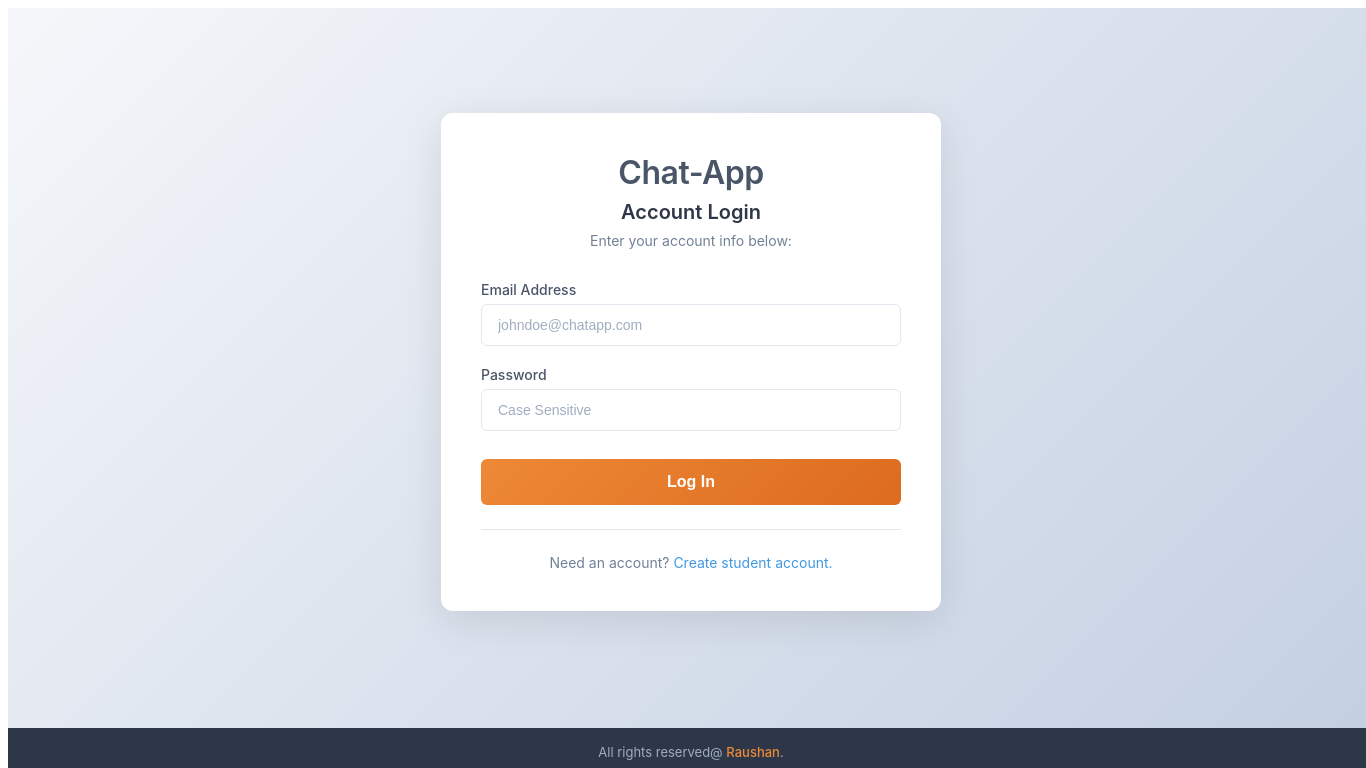
Test: session and routing › blocks duplicate login requests and keeps credentials after failure
Expected: the heading "Account Login" is shown, [621,200,761,224]
Type "alice@example.com" into the field labelled "Email Address". click: (691, 325)
box: [481,304,901,346]
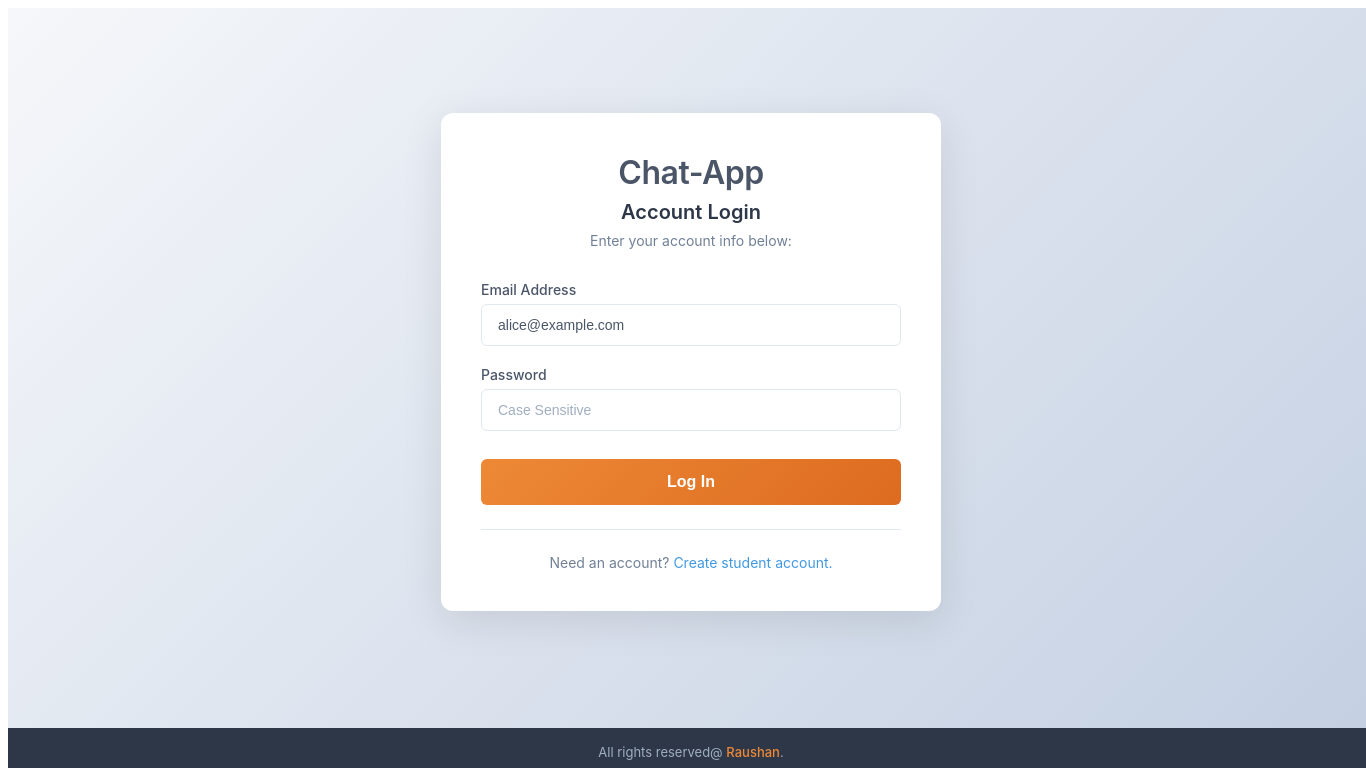
Type "secret" into the password field labelled "Password". click: (691, 410)
box: [481,389,901,431]
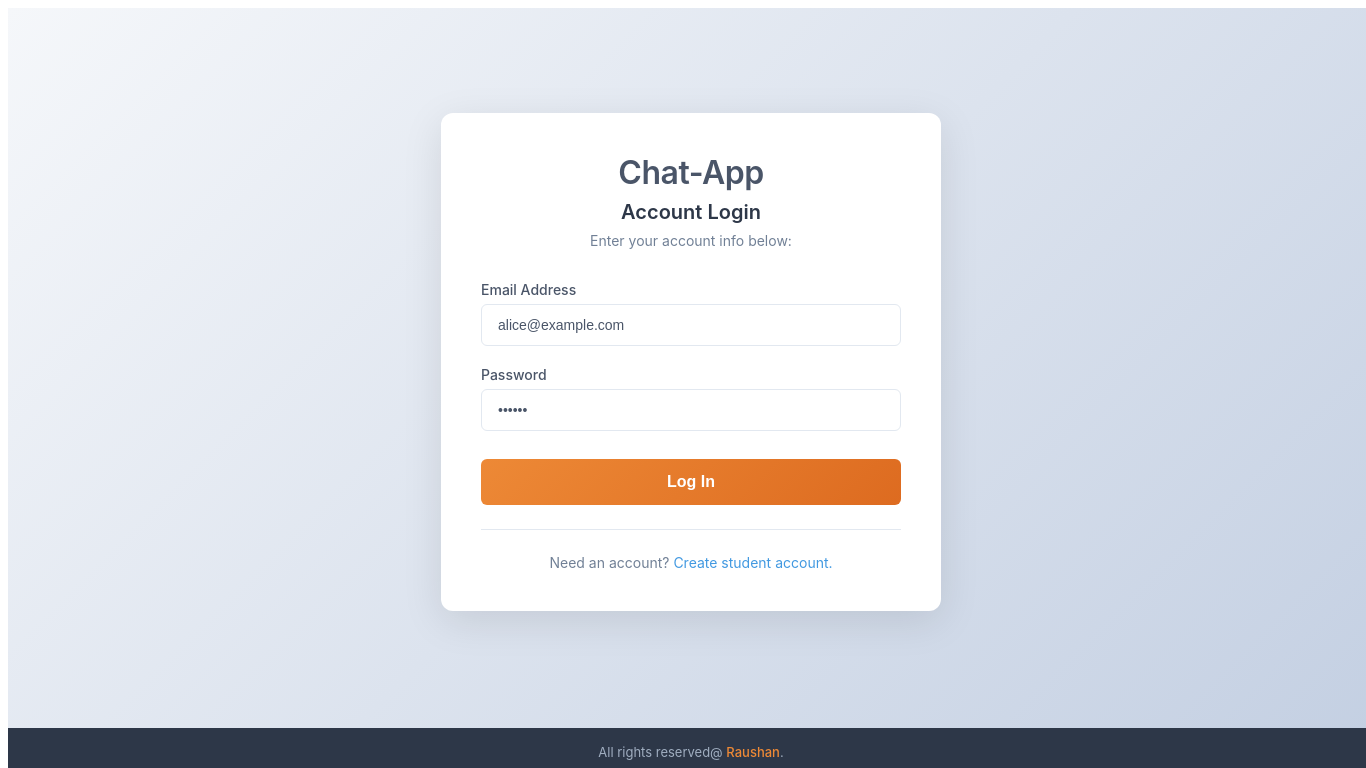
Submit the form labelled "Email Address", box [481,281,901,505]
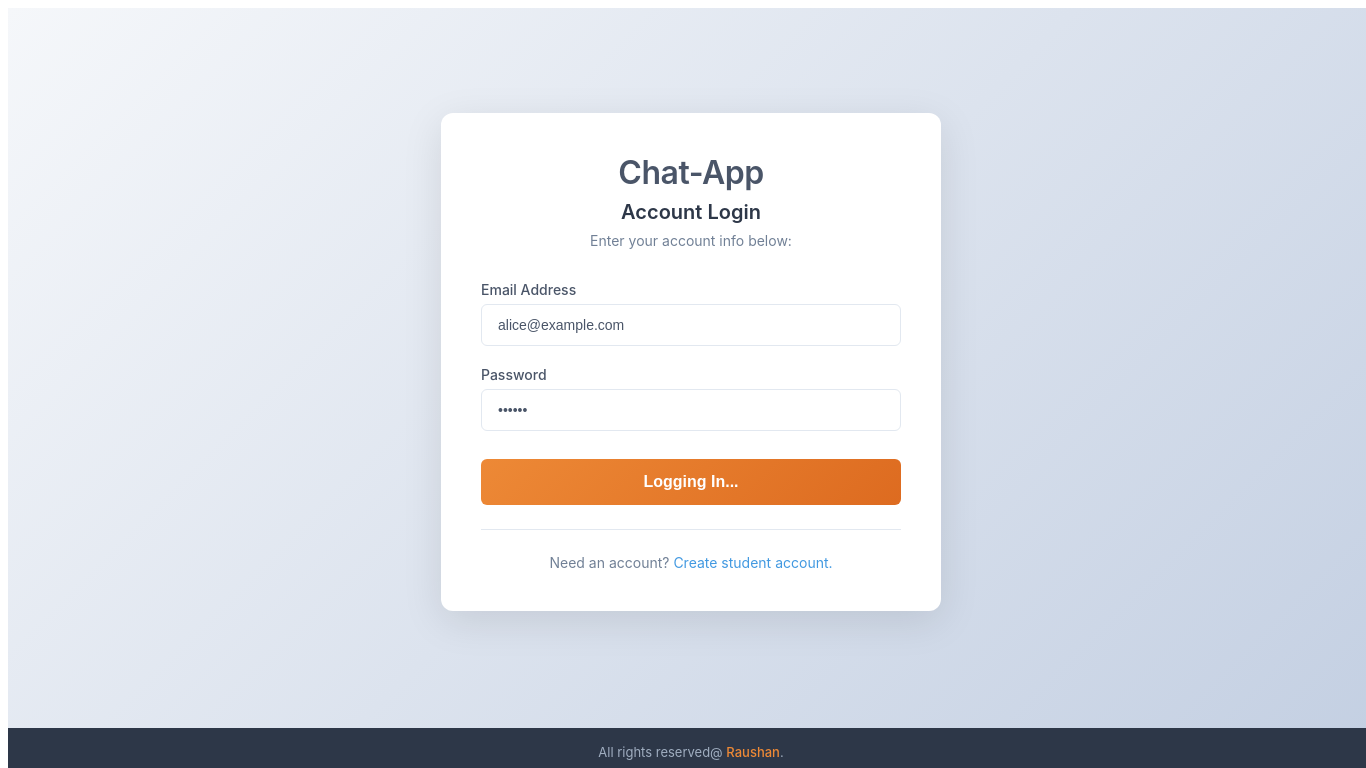
Submit the form labelled "Email Address", box [481,281,901,505]
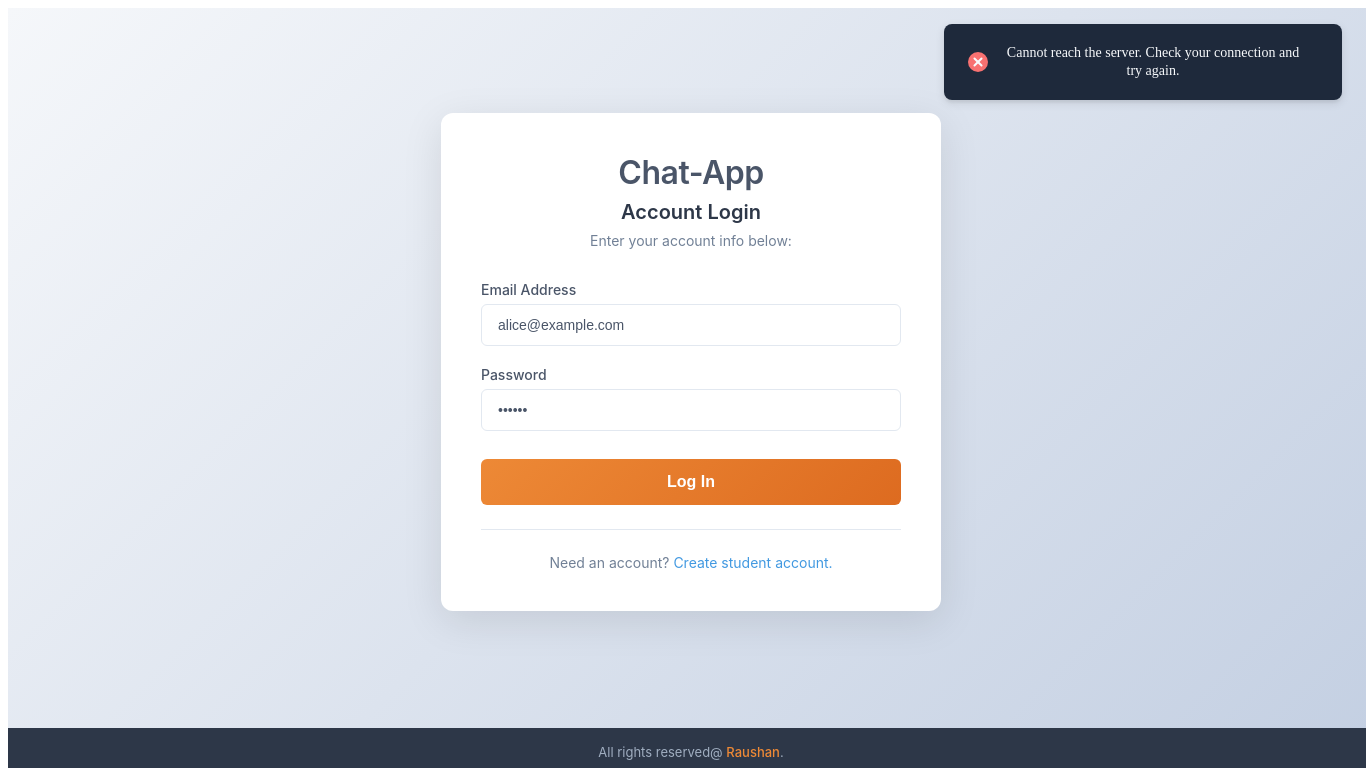
Expected: the button "Log In" is enabled, [481,459,901,505]
